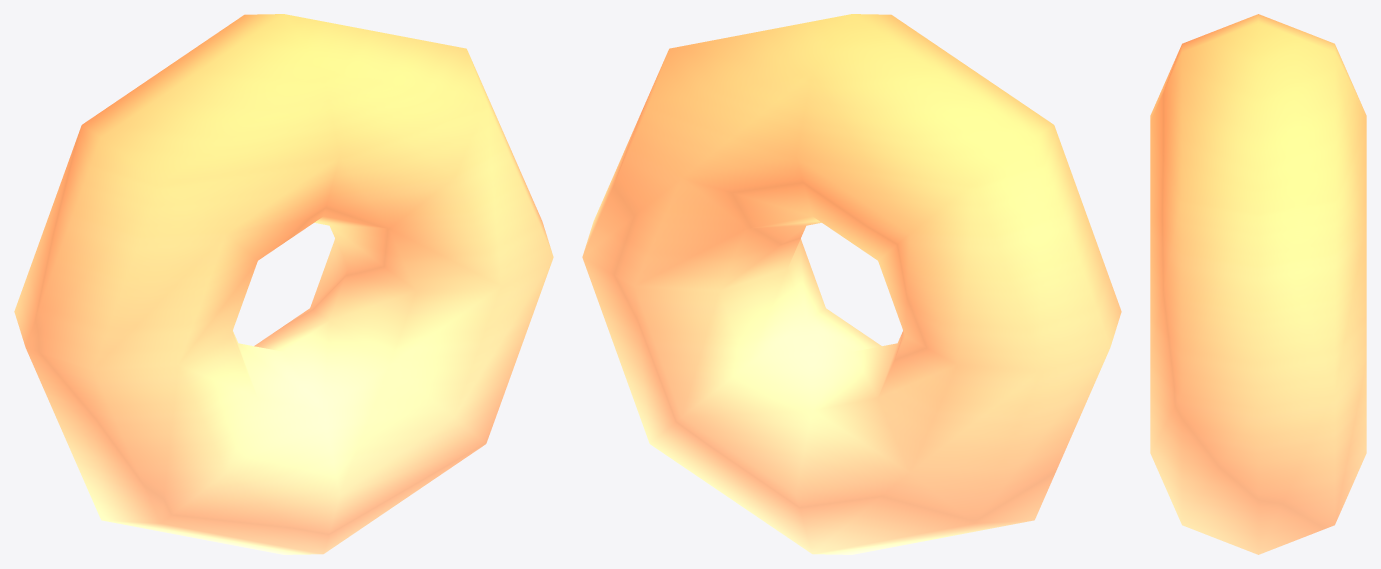
File: wood_pommel_142_004.glb
3 renders of one model, left to right at view 1: azimuth 30°, elevation 25°; view 2: azimuth 150°, elevation 25°; view 3: azimuth 270°, elevation 25°, orthographic. The views are drawn at different scales.
Parts seen in each view (by area): view 1: wood_pommel_142.004; view 2: wood_pommel_142.004; view 3: wood_pommel_142.004.
Boxes of the visible parts, x1=… form: wood_pommel_142.004: x1=14, y1=14, x2=553, y2=554; wood_pommel_142.004: x1=582, y1=14, x2=1121, y2=554; wood_pommel_142.004: x1=1150, y1=14, x2=1366, y2=554.
Size of the model in its own units: 2.31 by 2.31 by 0.8663.
Materials: 1 (1 with a texture image).
